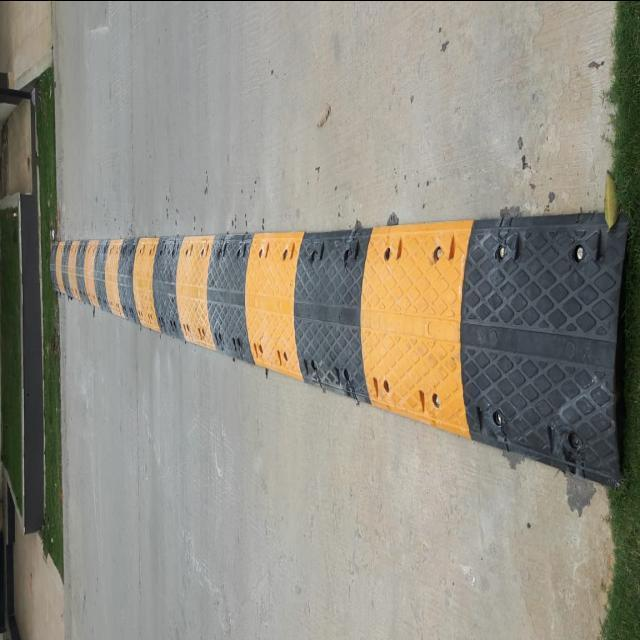speedbreaker: (49, 218, 622, 496)
